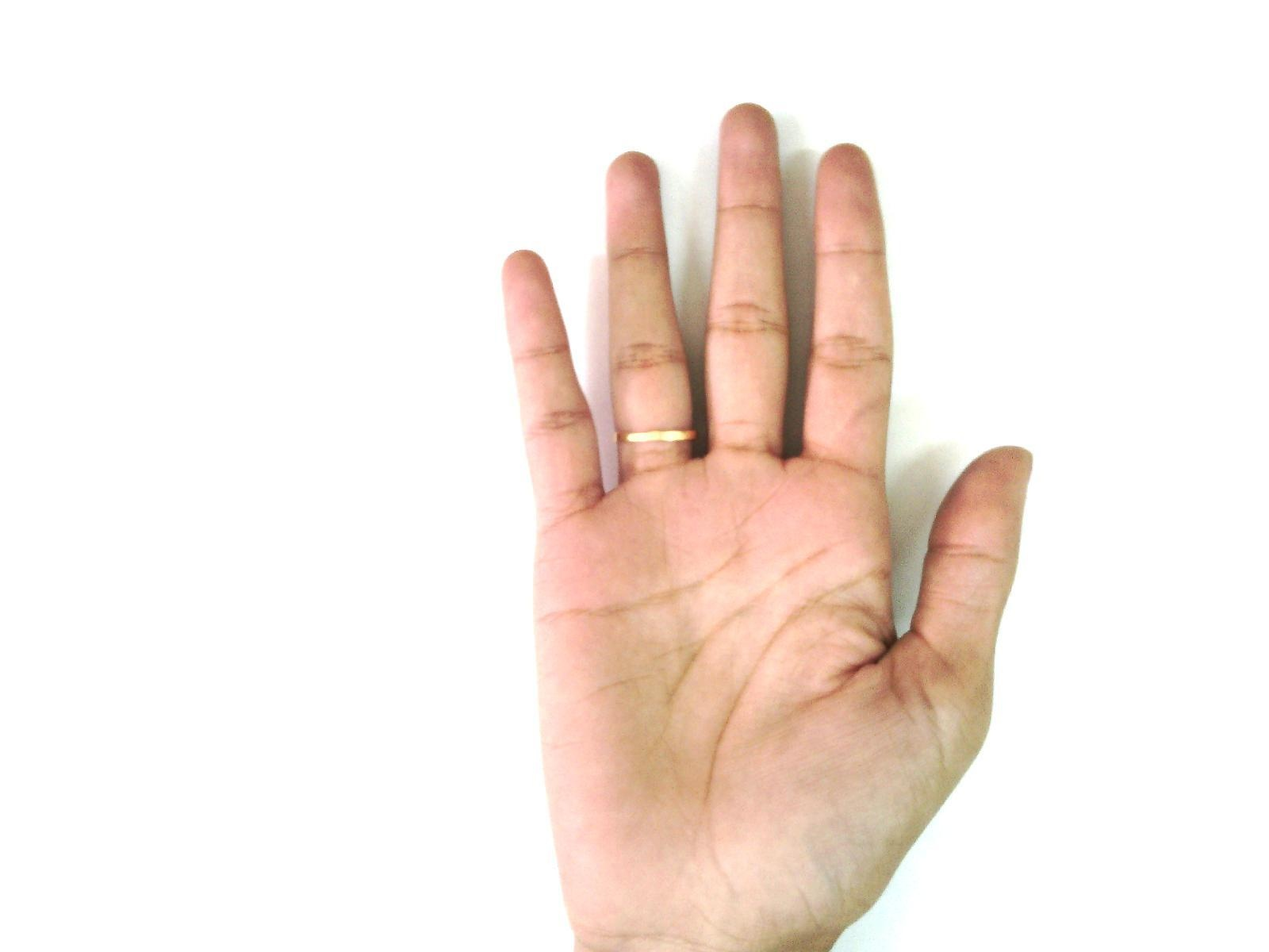open_palm: (497, 102, 1036, 951)
